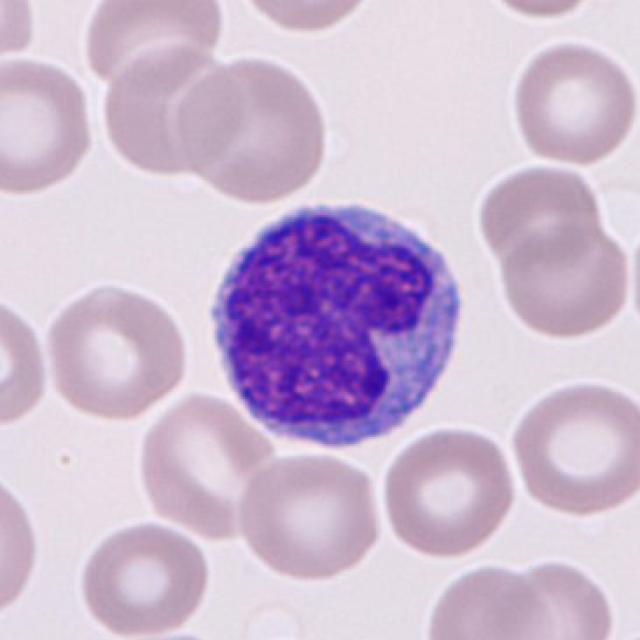Lymphocyte: (196, 191, 477, 458)
RBC: (175, 52, 334, 206), (133, 389, 280, 541), (41, 279, 192, 423), (232, 447, 386, 583), (96, 38, 241, 177), (378, 422, 521, 560), (507, 375, 638, 520), (493, 218, 635, 342), (507, 36, 638, 168), (74, 517, 214, 638), (0, 50, 100, 200), (472, 160, 605, 266), (79, 2, 229, 94), (420, 560, 554, 640), (495, 555, 621, 640), (166, 59, 248, 172), (0, 291, 52, 430), (0, 464, 44, 622), (231, 0, 385, 36), (470, 0, 612, 23), (0, 0, 40, 64)
